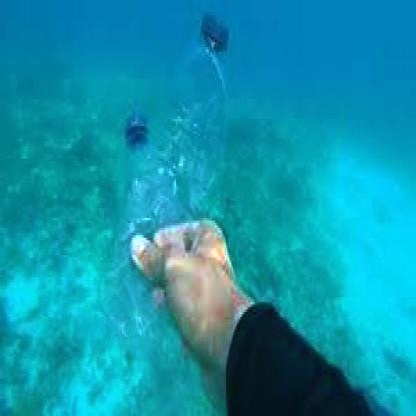pbottle: (107, 99, 177, 359), (165, 2, 230, 233)
